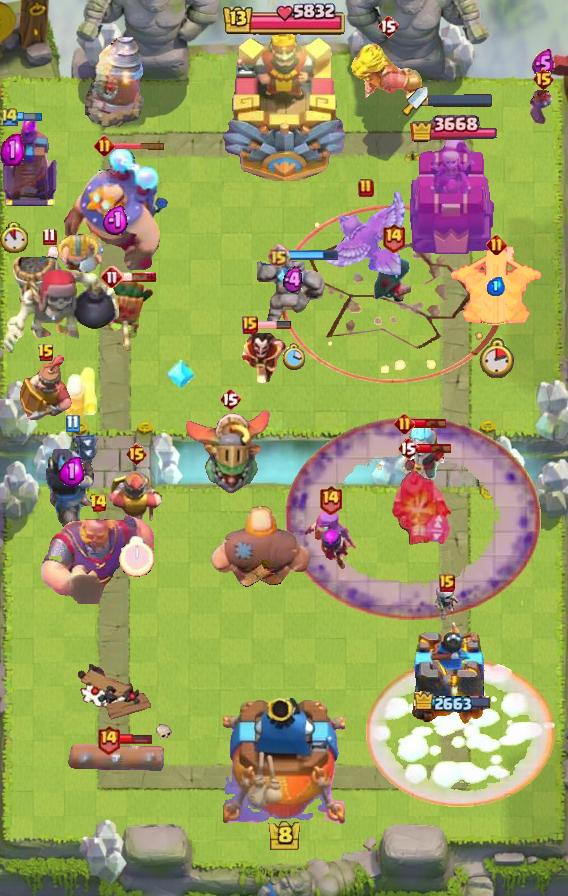balloon: (208, 504, 314, 594)
bar: (409, 138, 497, 256)
barbarian-barrel: (527, 90, 559, 126)
clock: (221, 0, 347, 40)
earthquake: (19, 352, 73, 422), (107, 466, 165, 530)
electro-giant: (0, 241, 122, 357)
electro-spirit: (102, 205, 130, 236), (59, 455, 85, 487), (1, 134, 24, 166), (533, 50, 556, 79), (283, 266, 303, 294), (487, 276, 505, 295)
elixir: (119, 536, 154, 577), (478, 338, 513, 378), (0, 223, 28, 253), (283, 343, 306, 371)
emote: (287, 249, 339, 261), (112, 141, 166, 150), (121, 271, 157, 283), (412, 417, 448, 429), (417, 442, 453, 454), (120, 733, 153, 745), (9, 110, 44, 121), (256, 320, 292, 330)
goblin-barrel: (95, 275, 155, 353)
goblin-giant: (56, 232, 104, 275)
goblin-hut: (350, 41, 427, 103)
golden-knight: (325, 188, 407, 276)
guard: (281, 204, 505, 384)
heal-spirit: (432, 585, 462, 623)
ice-spirit-evolution-symbol: (0, 116, 60, 208)
inferno-dragon: (389, 447, 455, 549), (43, 431, 101, 531)
king-tower: (220, 21, 348, 181), (223, 698, 345, 826)
king-tower-bar: (428, 93, 492, 106)
lava-pup: (447, 246, 545, 328)
lightning: (39, 514, 157, 604)
little-prince: (62, 146, 170, 272)
lumberjack: (238, 329, 290, 383)
magic-archer: (85, 36, 145, 128)
minion: (68, 740, 176, 776)
mortar: (388, 422, 450, 494)
night-witch: (183, 407, 277, 495)
pad_2: (167, 357, 195, 391)
phoenix-big: (365, 657, 555, 806)
queen-tower: (411, 619, 495, 731)
rascal-girl: (302, 507, 358, 573)
rocket: (285, 417, 541, 621)
selected: (411, 112, 498, 146), (414, 691, 494, 715)
tesla: (371, 257, 415, 305)
text: (318, 485, 343, 516), (96, 725, 121, 756), (382, 223, 406, 253), (100, 265, 124, 289), (533, 67, 556, 91), (125, 442, 148, 466), (267, 244, 290, 267), (377, 14, 399, 38), (219, 387, 241, 411), (397, 436, 419, 460), (94, 135, 115, 156), (485, 233, 506, 254), (394, 413, 415, 434), (0, 105, 20, 126), (88, 493, 107, 513), (37, 343, 55, 363), (358, 178, 374, 198), (242, 316, 258, 334), (439, 574, 455, 592), (65, 414, 80, 433), (43, 227, 57, 245)
tombstone: (57, 364, 99, 422)
valkyrie-evolution: (257, 260, 329, 330)
